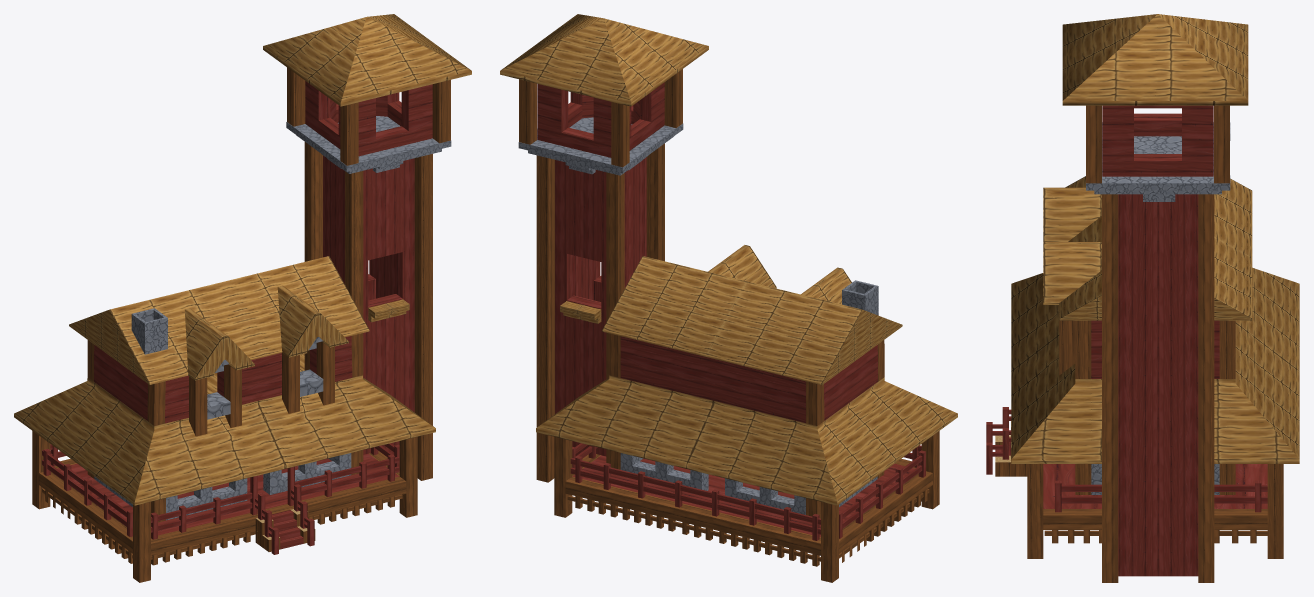
Rendered from FarmHouse.FBX.
The picture shows the model from 3 angles, left to right: view 1: azimuth 30°, elevation 25°; view 2: azimuth 150°, elevation 25°; view 3: azimuth 270°, elevation 25°; orthographic projection. The views are drawn at different scales.
Visible parts, largest first — view 1: FarmHouse, FarmTower, Fence, Box002, Object001, Box001; view 2: FarmHouse, FarmTower, Fence, Box002, Object001, Box001; view 3: FarmTower, FarmHouse, Box002, Fence, Object001.
Boxes of the visible parts, x1,y1,x2,y2 form: FarmHouse: [14, 256, 435, 582]; FarmTower: [263, 14, 471, 480]; Fence: [42, 443, 402, 565]; Box002: [305, 81, 432, 156]; Object001: [286, 116, 451, 173]; Box001: [131, 308, 167, 354]; FarmHouse: [536, 245, 957, 582]; FarmTower: [500, 14, 708, 482]; Fence: [567, 443, 929, 566]; Box002: [537, 82, 664, 157]; Object001: [518, 117, 683, 175]; Box001: [842, 280, 878, 315]; FarmTower: [1062, 14, 1248, 582]; FarmHouse: [995, 176, 1299, 558]; Box002: [1102, 105, 1213, 176]; Fence: [986, 407, 1267, 543]; Object001: [1086, 122, 1230, 201].
Size of the model in its own units: 309 by 377 by 196.
Materials: 6 (6 with a texture image).
